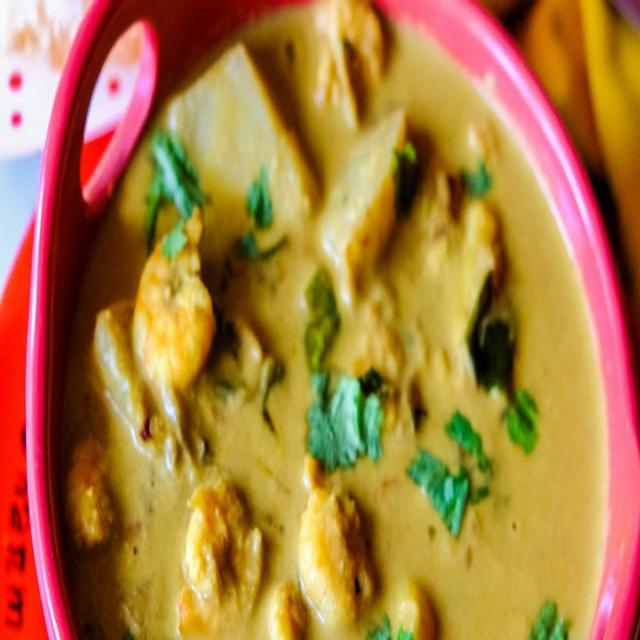ShahiPaneer: (66, 25, 607, 631)
